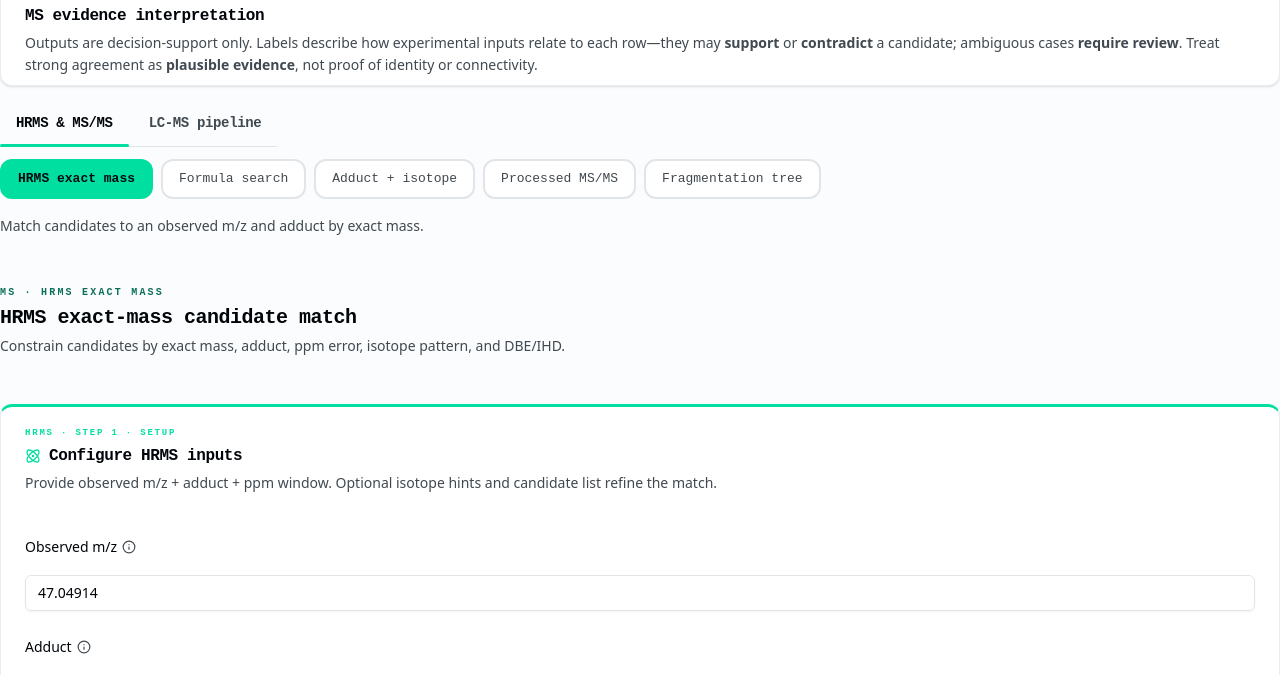
Test: SpectraCheckMsEvidence HRMS & formula › renders isotope clusters from mocked adduct inference response
Click the tab "Adduct + isotope".
click(395, 179)  # box top-left (314, 159), bottom-right (475, 199)
(page scrolled)
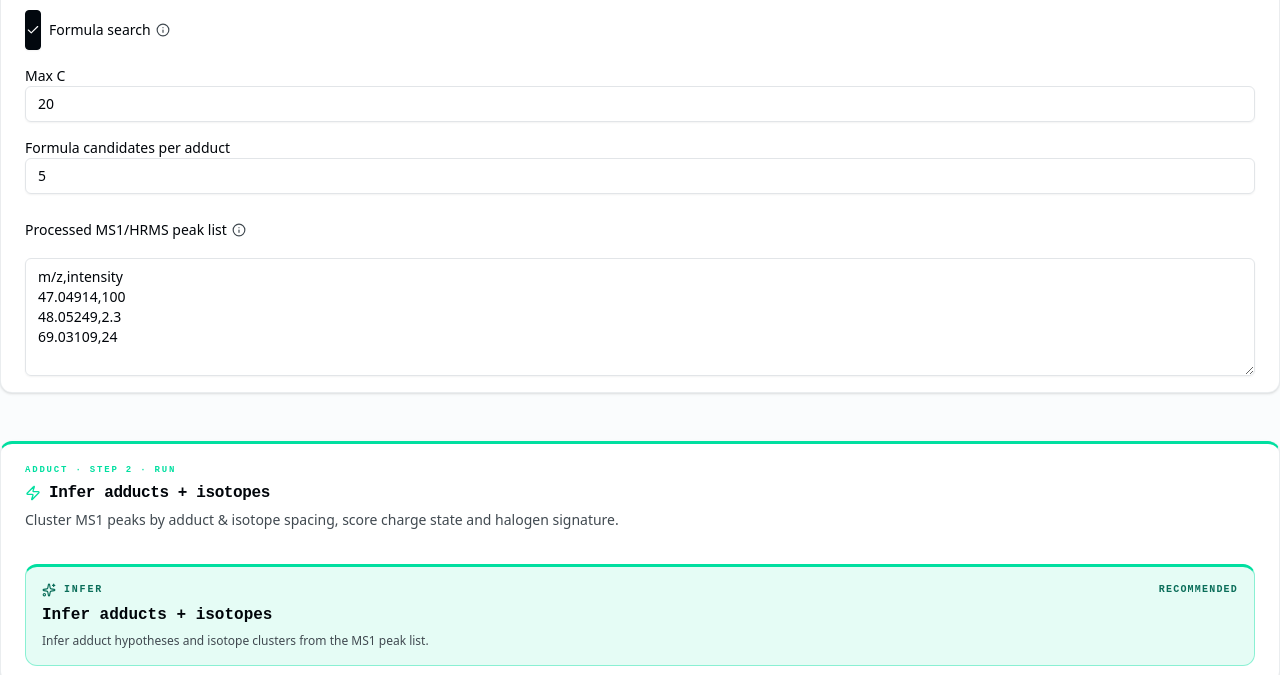
Click the button "Infer adducts + isotopes".
click(84, 590)  # box top-left (25, 564), bottom-right (1255, 666)
(page scrolled)
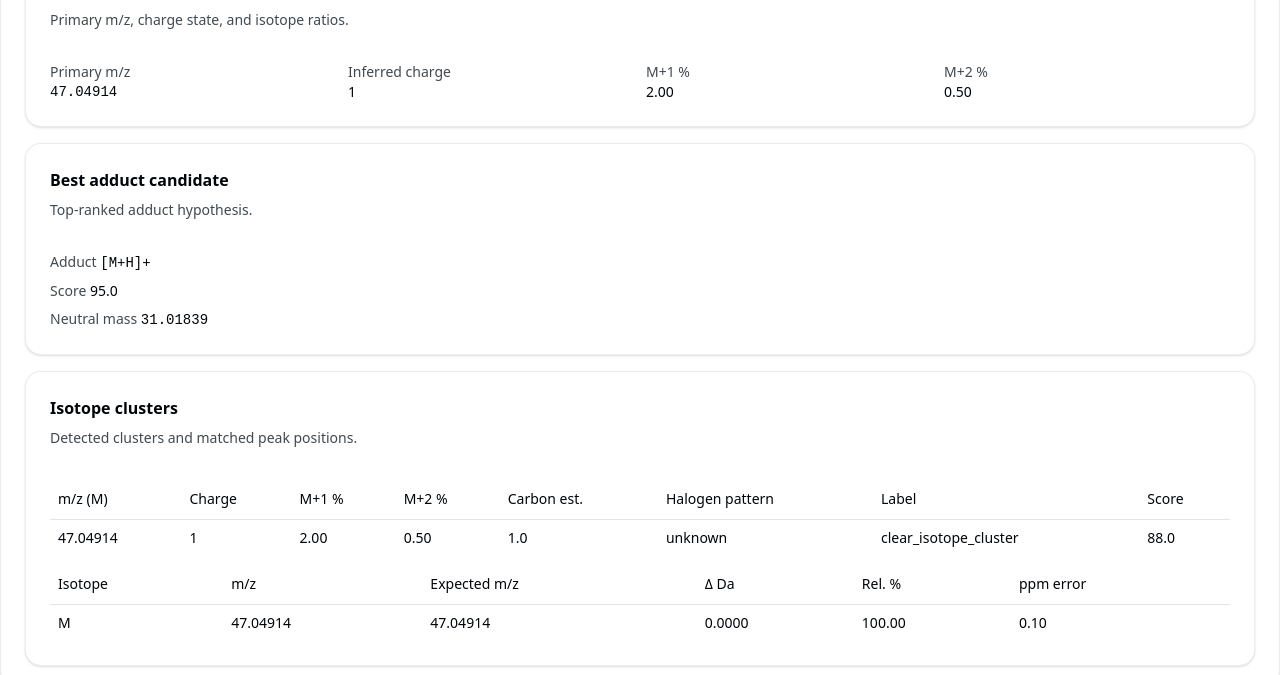
Check: the text "Isotope clusters" is shown, box top-left (50, 396), bottom-right (178, 418)
Check: the text "clear_isotope_cluster" is shown, box top-left (873, 520), bottom-right (1139, 556)
